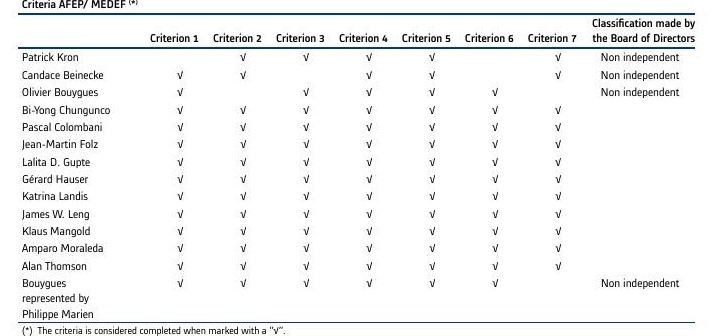table: (0, 0, 716, 336)
